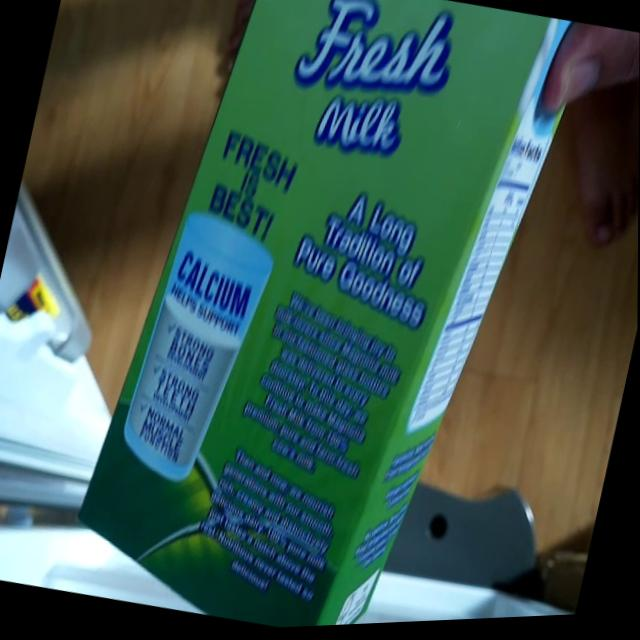milk: (56, 0, 600, 638)
